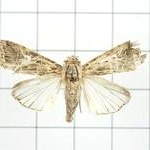Spodoptera litura: (0, 40, 148, 123)
